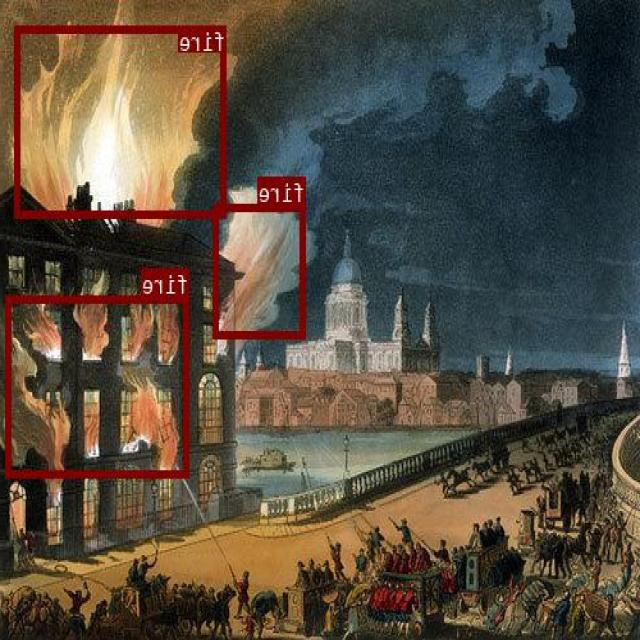fire: (16, 24, 227, 217), (7, 294, 190, 476), (214, 203, 307, 336)
